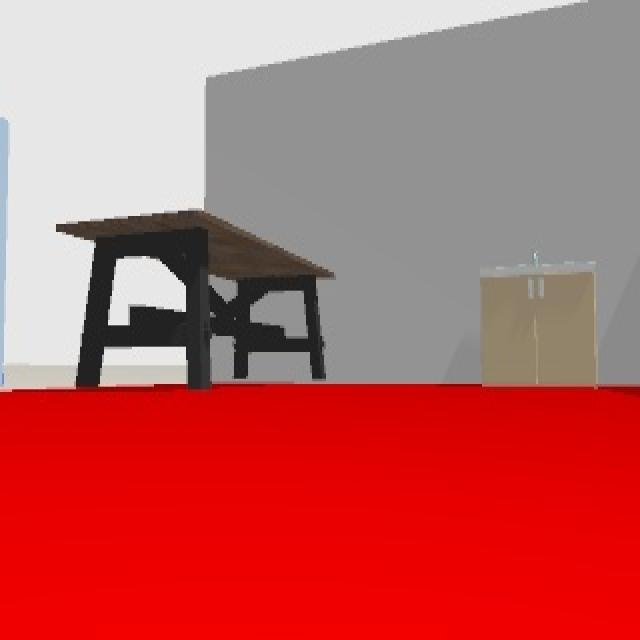dining: (56, 208, 334, 390)
